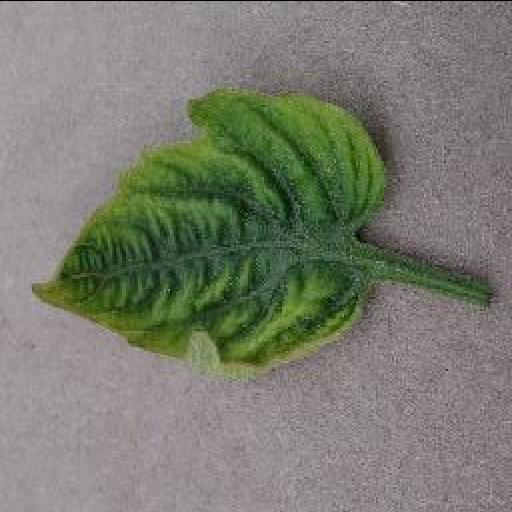disease_tomato: (30, 86, 392, 376)
